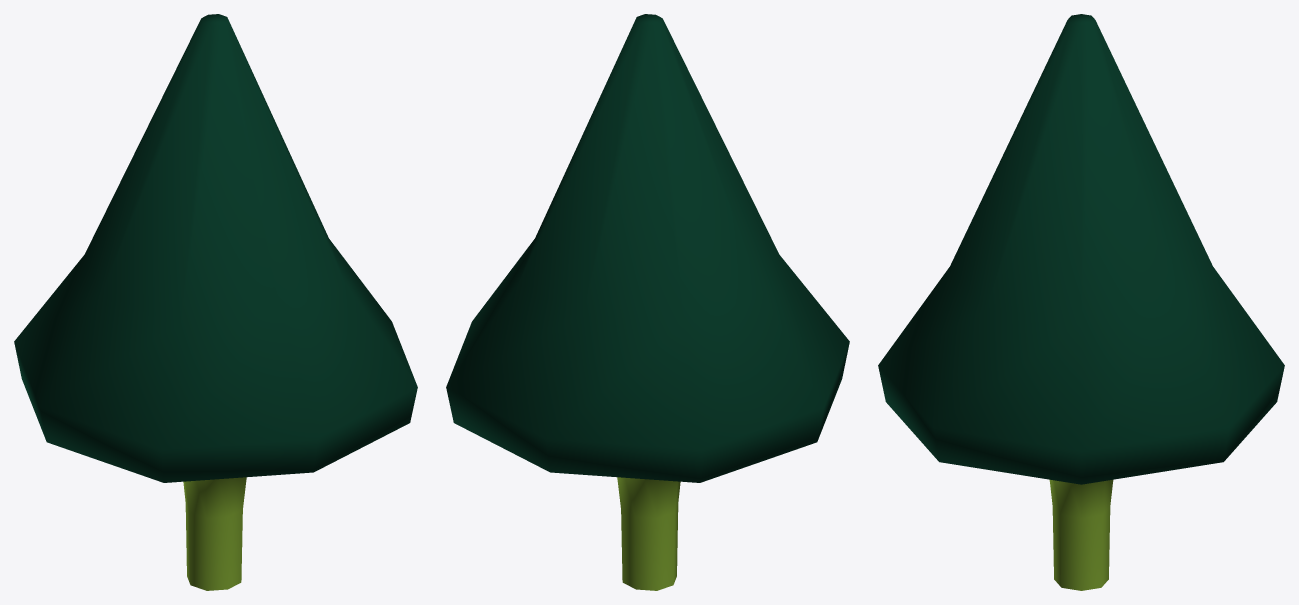
Rendered from Mashroom_18.fbx.
3 renders of one model, left to right at view 1: azimuth 30°, elevation 25°; view 2: azimuth 150°, elevation 25°; view 3: azimuth 270°, elevation 25°, orthographic.
Parts seen in each view (by area): view 1: Mashroom_18; view 2: Mashroom_18; view 3: Mashroom_18.
Boxes of the visible parts, x1,y1,x2,y2 form: Mashroom_18: (14,14,417,590); Mashroom_18: (446,14,849,590); Mashroom_18: (878,14,1284,590).
Size of the model in its own units: 28.79 by 43.72 by 28.79.
